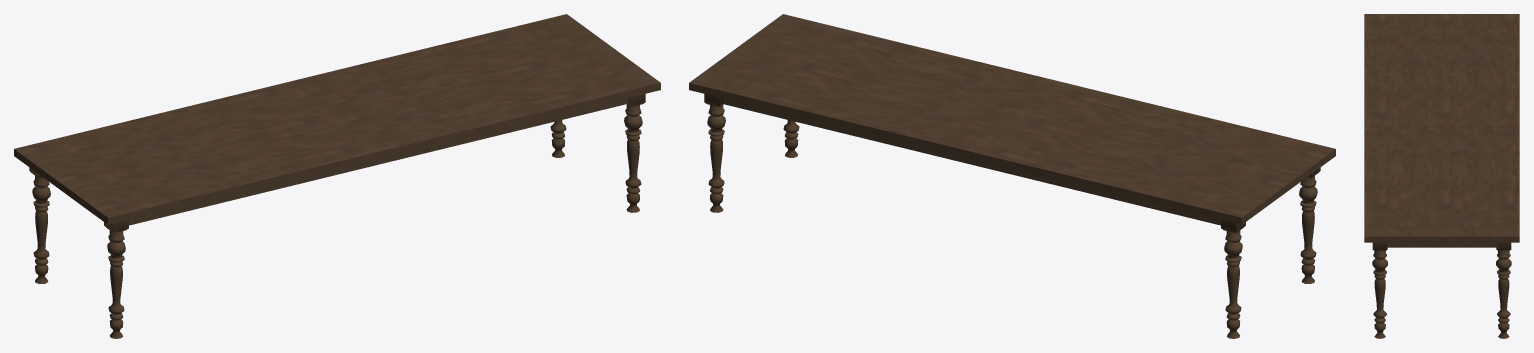
File: Table.fbx
3 renders of one model, left to right at view 1: azimuth 30°, elevation 25°; view 2: azimuth 150°, elevation 25°; view 3: azimuth 270°, elevation 25°, orthographic. The views are drawn at different scales.
Parts seen in each view (by area): view 1: Cube.002; view 2: Cube.002; view 3: Cube.002.
Part boxes in pixels (x1,y1,x2,y2): Cube.002: (14, 14, 660, 338); Cube.002: (689, 14, 1335, 338); Cube.002: (1364, 14, 1519, 338).
Bounding box in the file's own units: 1694 × 380 × 499.
Materials: 1 (1 with a texture image).
